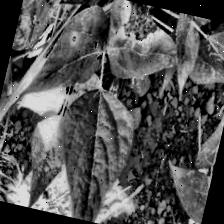ALS: (20, 0, 114, 115), (96, 0, 196, 90), (18, 107, 73, 213), (131, 210, 200, 224)
